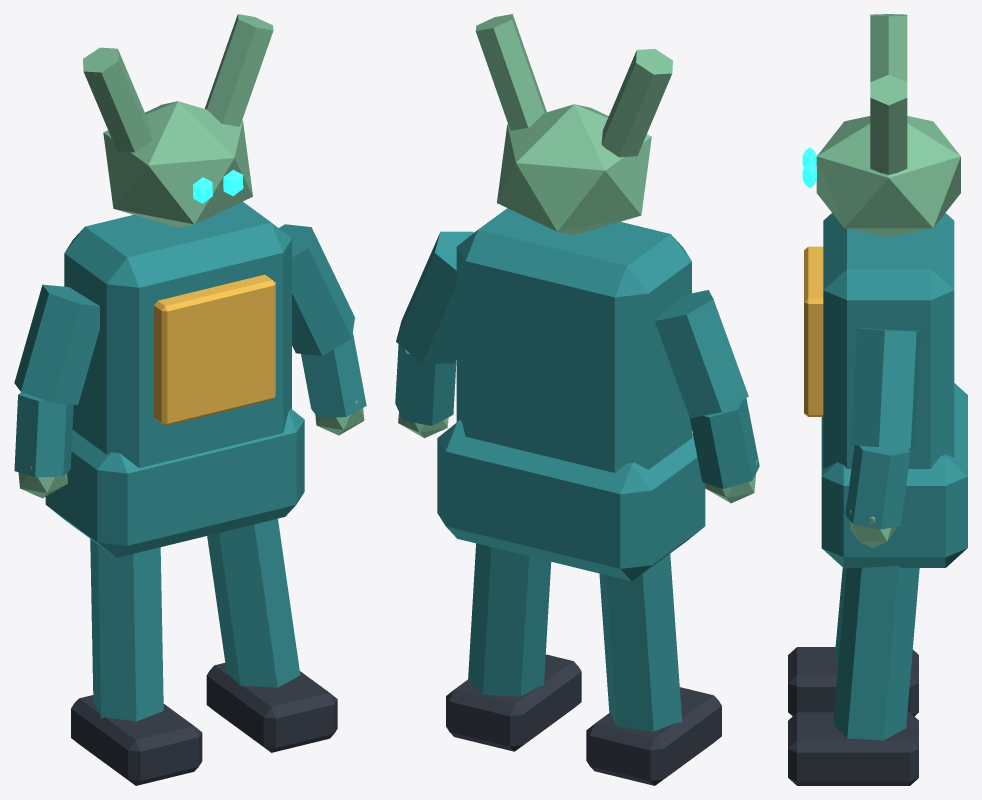
The model's file is npcs_032_seed11.glb.
3 views of the same model, side by side, from view 1: azimuth 30°, elevation 25°; view 2: azimuth 150°, elevation 25°; view 3: azimuth 270°, elevation 25° (orthographic). The views are drawn at different scales.
Parts seen in each view (by area): view 1: npcs_032_seed11; view 2: npcs_032_seed11; view 3: npcs_032_seed11.
Part boxes in pixels (x1,y1,x2,y2): npcs_032_seed11: (14, 14, 366, 785); npcs_032_seed11: (395, 14, 759, 785); npcs_032_seed11: (788, 14, 967, 785).
Bounding box in the file's own units: 1.01 × 1.94 × 0.4594.
